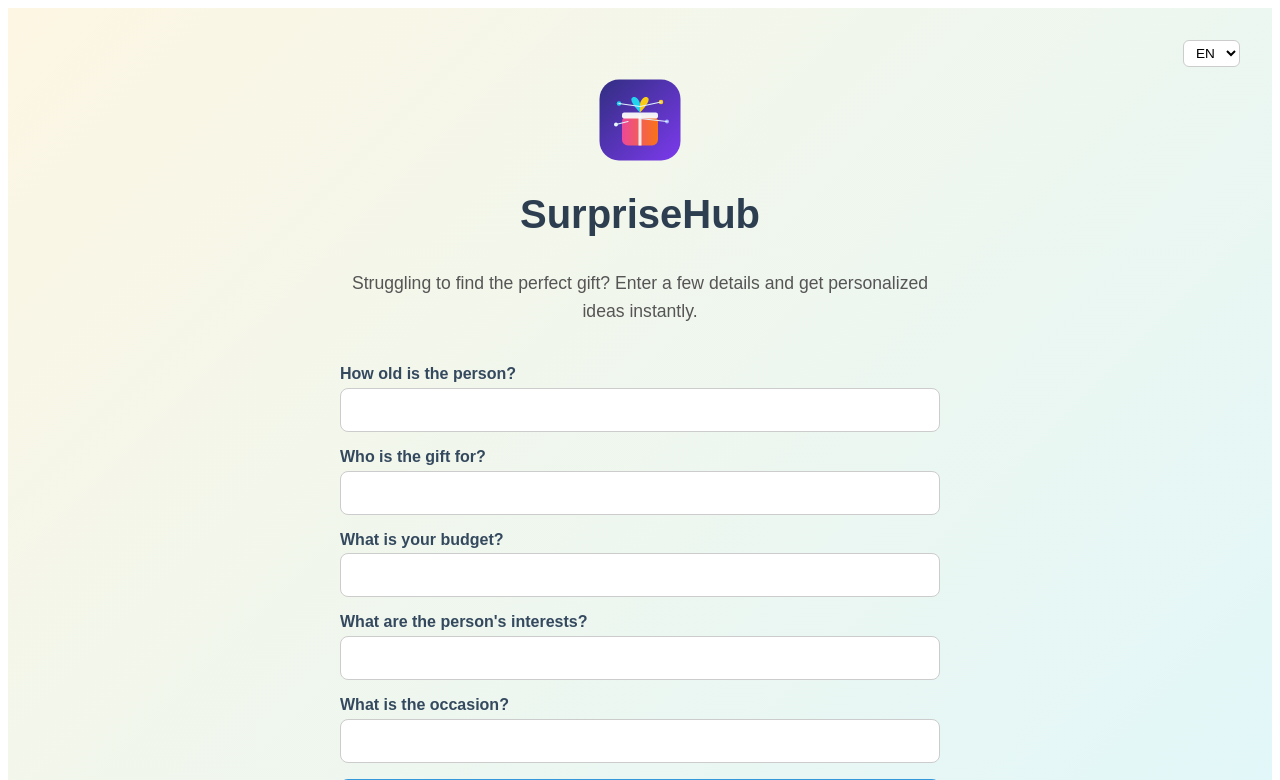
switches language via select
Step 1. Select "DE" in the dropdown showing "EN" → (1212, 54), box x1=1183 y1=40 x2=1240 y2=67
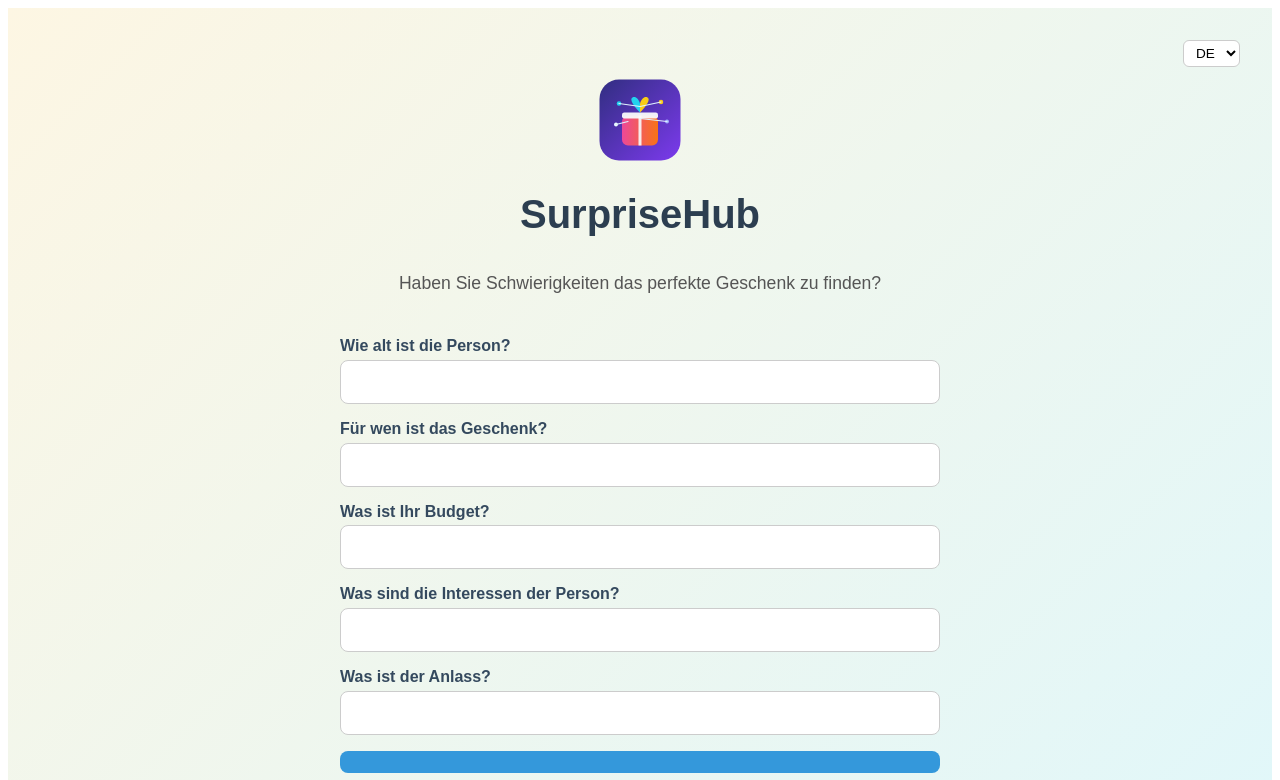
Check: the text "Haben Sie Schwierigkeiten das perfekte Geschenk zu finden?" is shown, box x1=399 y1=273 x2=881 y2=293
